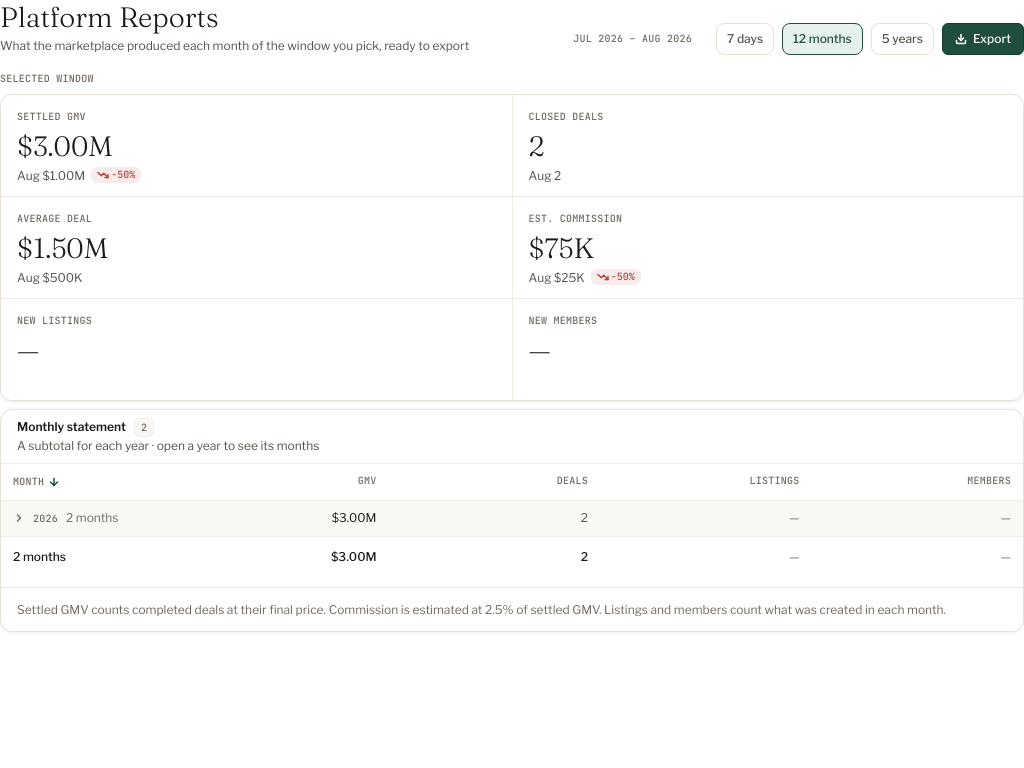
Test case: AdminReportsConsole · exporting › leaves out a table that was unticked, and refuses to export nothing
The image size is (1024, 768).
Click the button "Export" at (983, 39), box [942,23,1023,55]
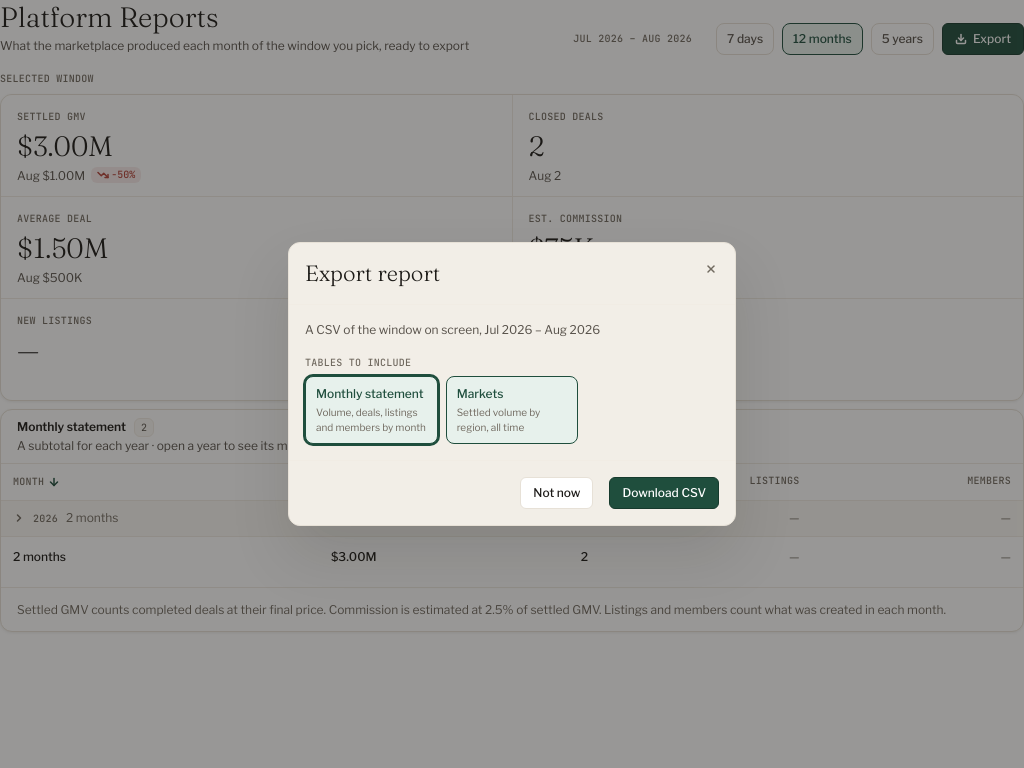
Click the button "Markets Settled volume by region, all time" at (512, 410), box [446,376,578,444]
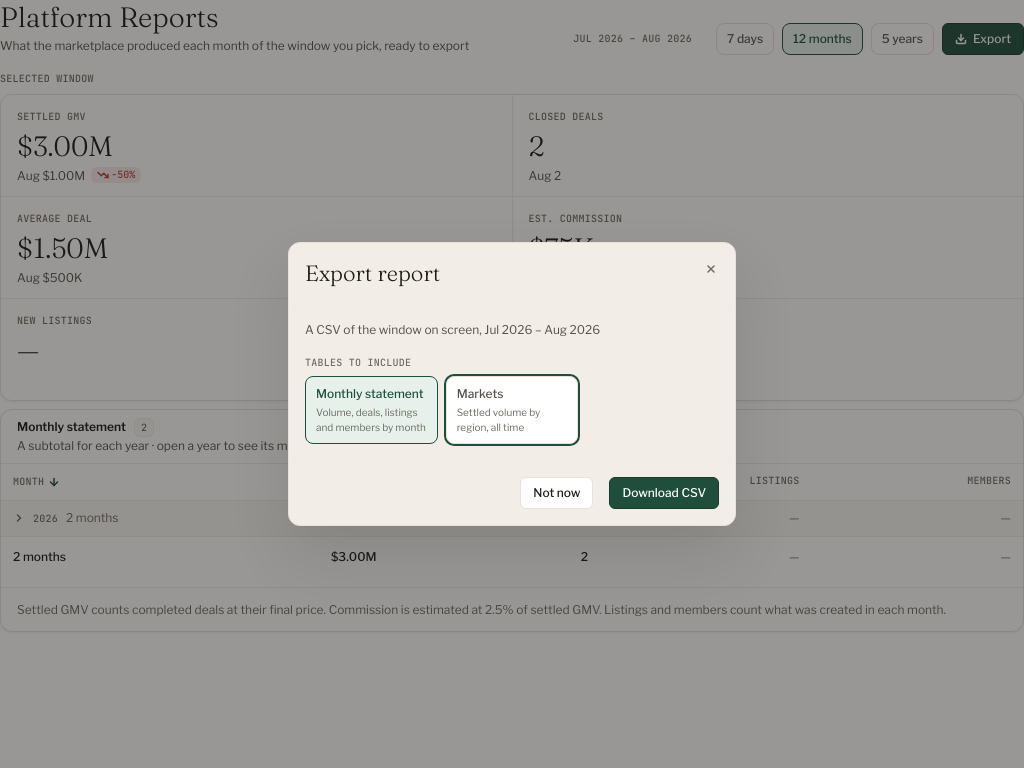
Click the button "Download CSV" at (664, 493), box [609,477,719,509]
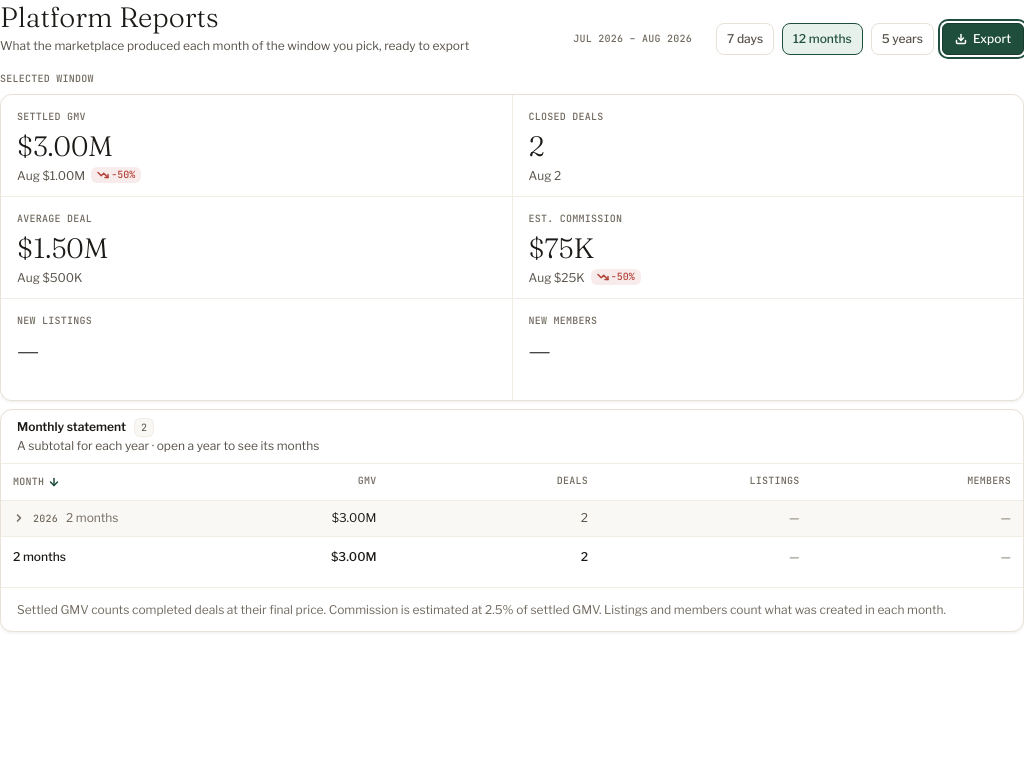
Click the button "Export" at (983, 39), box [942,23,1023,55]
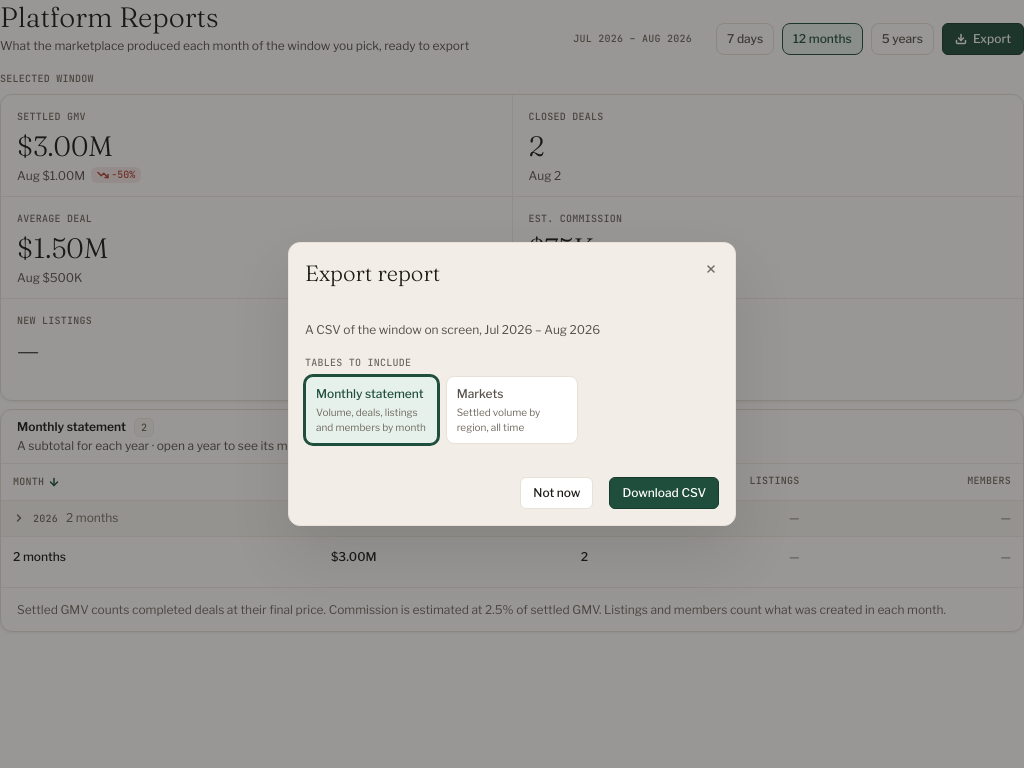
Click the button "Monthly statement" at (371, 410), box [305,376,438,444]
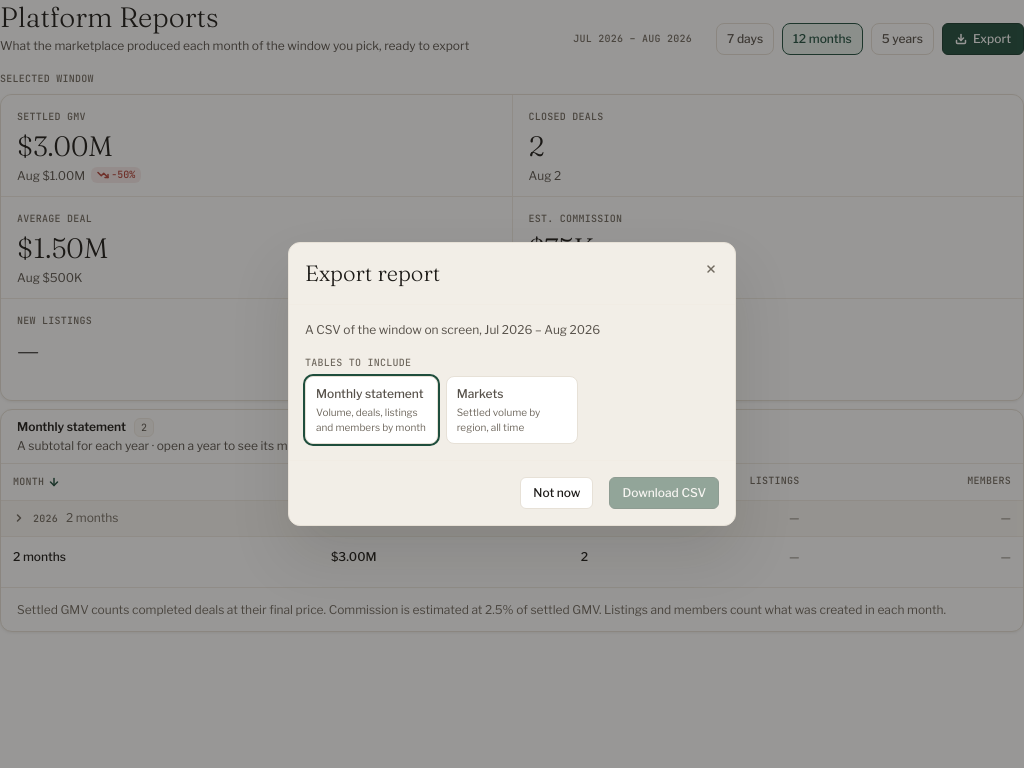
Expected: the button "Download CSV" is disabled, [609,477,719,509]
